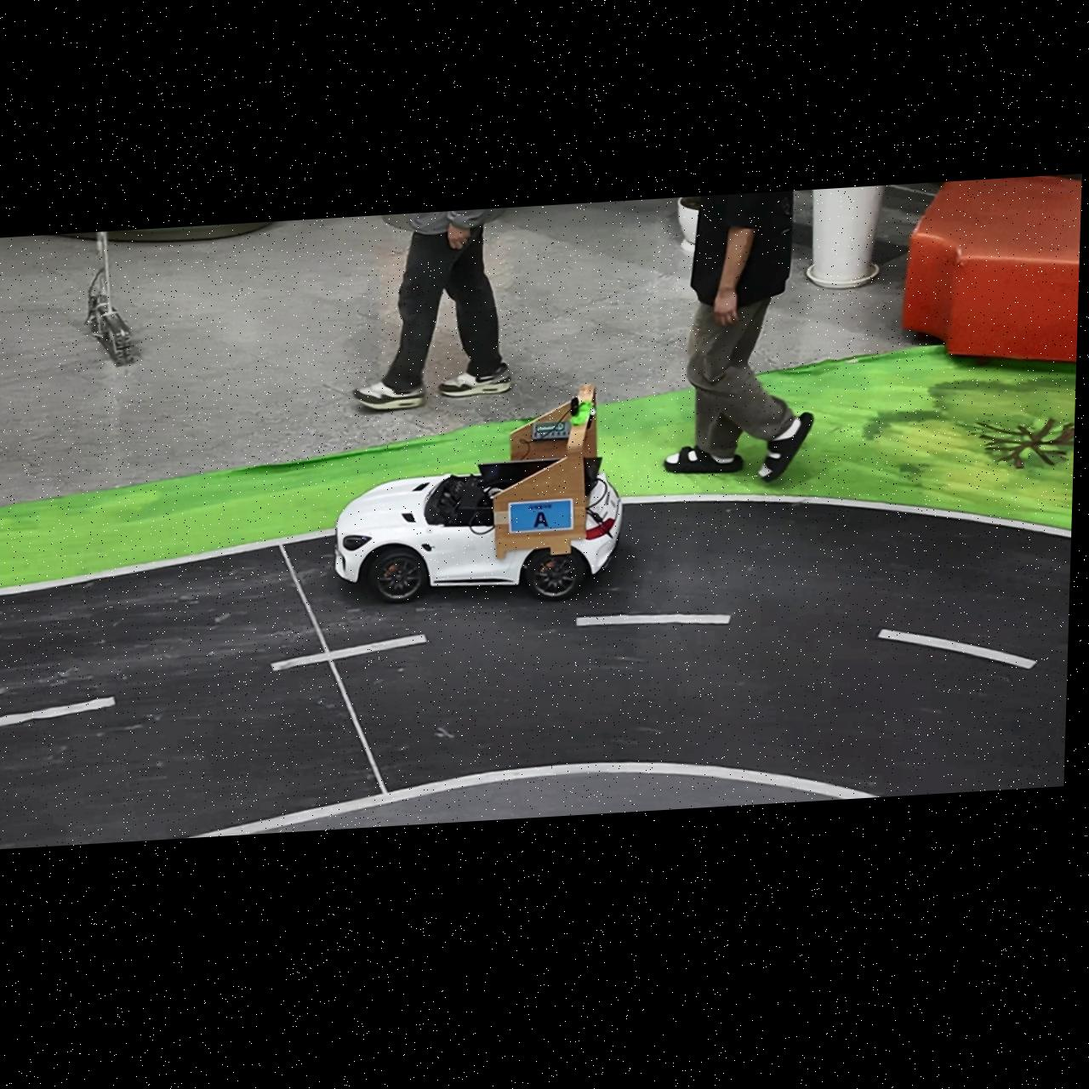broken_line: (877, 629, 1038, 669), (271, 634, 427, 671), (0, 697, 115, 726), (576, 614, 731, 625)
